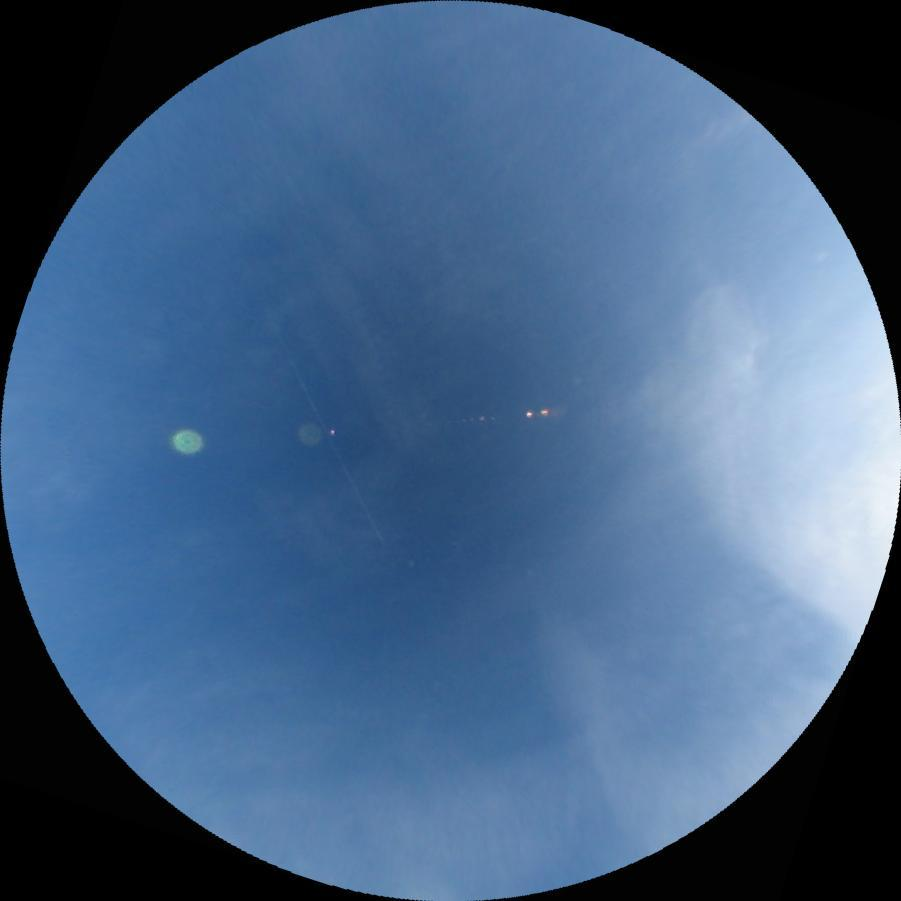contrail young: (270, 323, 387, 547)
